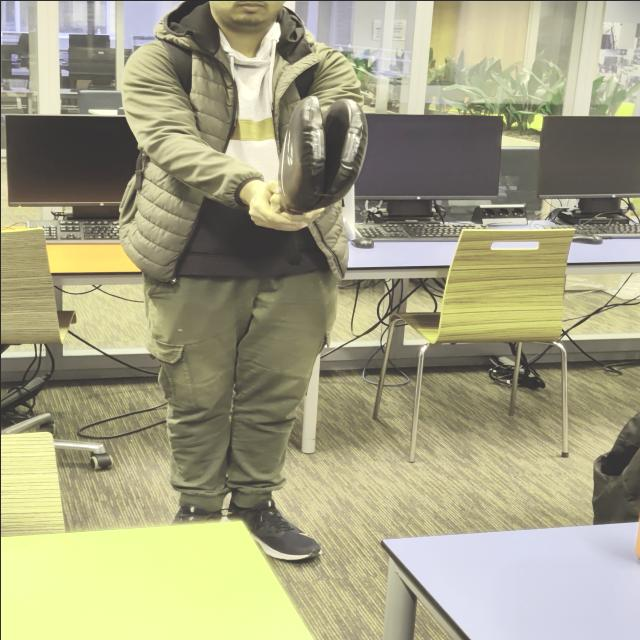paddle: (276, 94, 370, 214)
